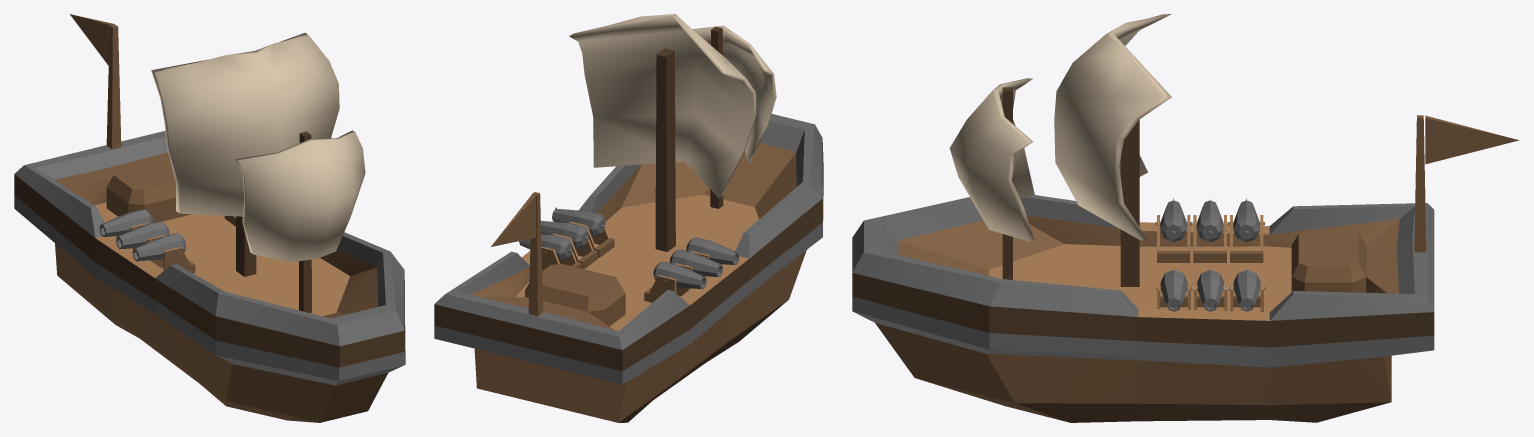
The picture shows the model from 3 angles, left to right: view 1: azimuth 30°, elevation 25°; view 2: azimuth 150°, elevation 25°; view 3: azimuth 270°, elevation 25°; orthographic projection. The views are drawn at different scales.
Visible parts, largest first — view 1: Boat_T1_Hull, Hull_2, Sails_1.001, Hull_1, cañon_1.001; view 2: Boat_T1_Hull, Hull_2, Hull_1, cañon_1.001, Sails_1.001; view 3: Boat_T1_Hull, Hull_2, Hull_1, Sails_1.001, cañon_1.001.
Part boxes in pixels (bbox=[...]): Boat_T1_Hull: bbox=[14, 14, 405, 422]; Hull_2: bbox=[14, 131, 404, 346]; Sails_1.001: bbox=[235, 130, 365, 312]; Hull_1: bbox=[14, 195, 405, 385]; cañon_1.001: bbox=[99, 209, 236, 273]; Boat_T1_Hull: bbox=[434, 14, 823, 422]; Hull_2: bbox=[434, 114, 822, 349]; Hull_1: bbox=[434, 163, 823, 384]; cañon_1.001: bbox=[519, 207, 739, 302]; Sails_1.001: bbox=[692, 25, 776, 208]; Boat_T1_Hull: bbox=[852, 14, 1518, 422]; Hull_2: bbox=[852, 195, 1434, 320]; Hull_1: bbox=[852, 296, 1434, 367]; Sails_1.001: bbox=[949, 78, 1034, 279]; cañon_1.001: bbox=[1155, 198, 1265, 312].
Size of the model in its own units: 3309 by 5510 by 9148.
